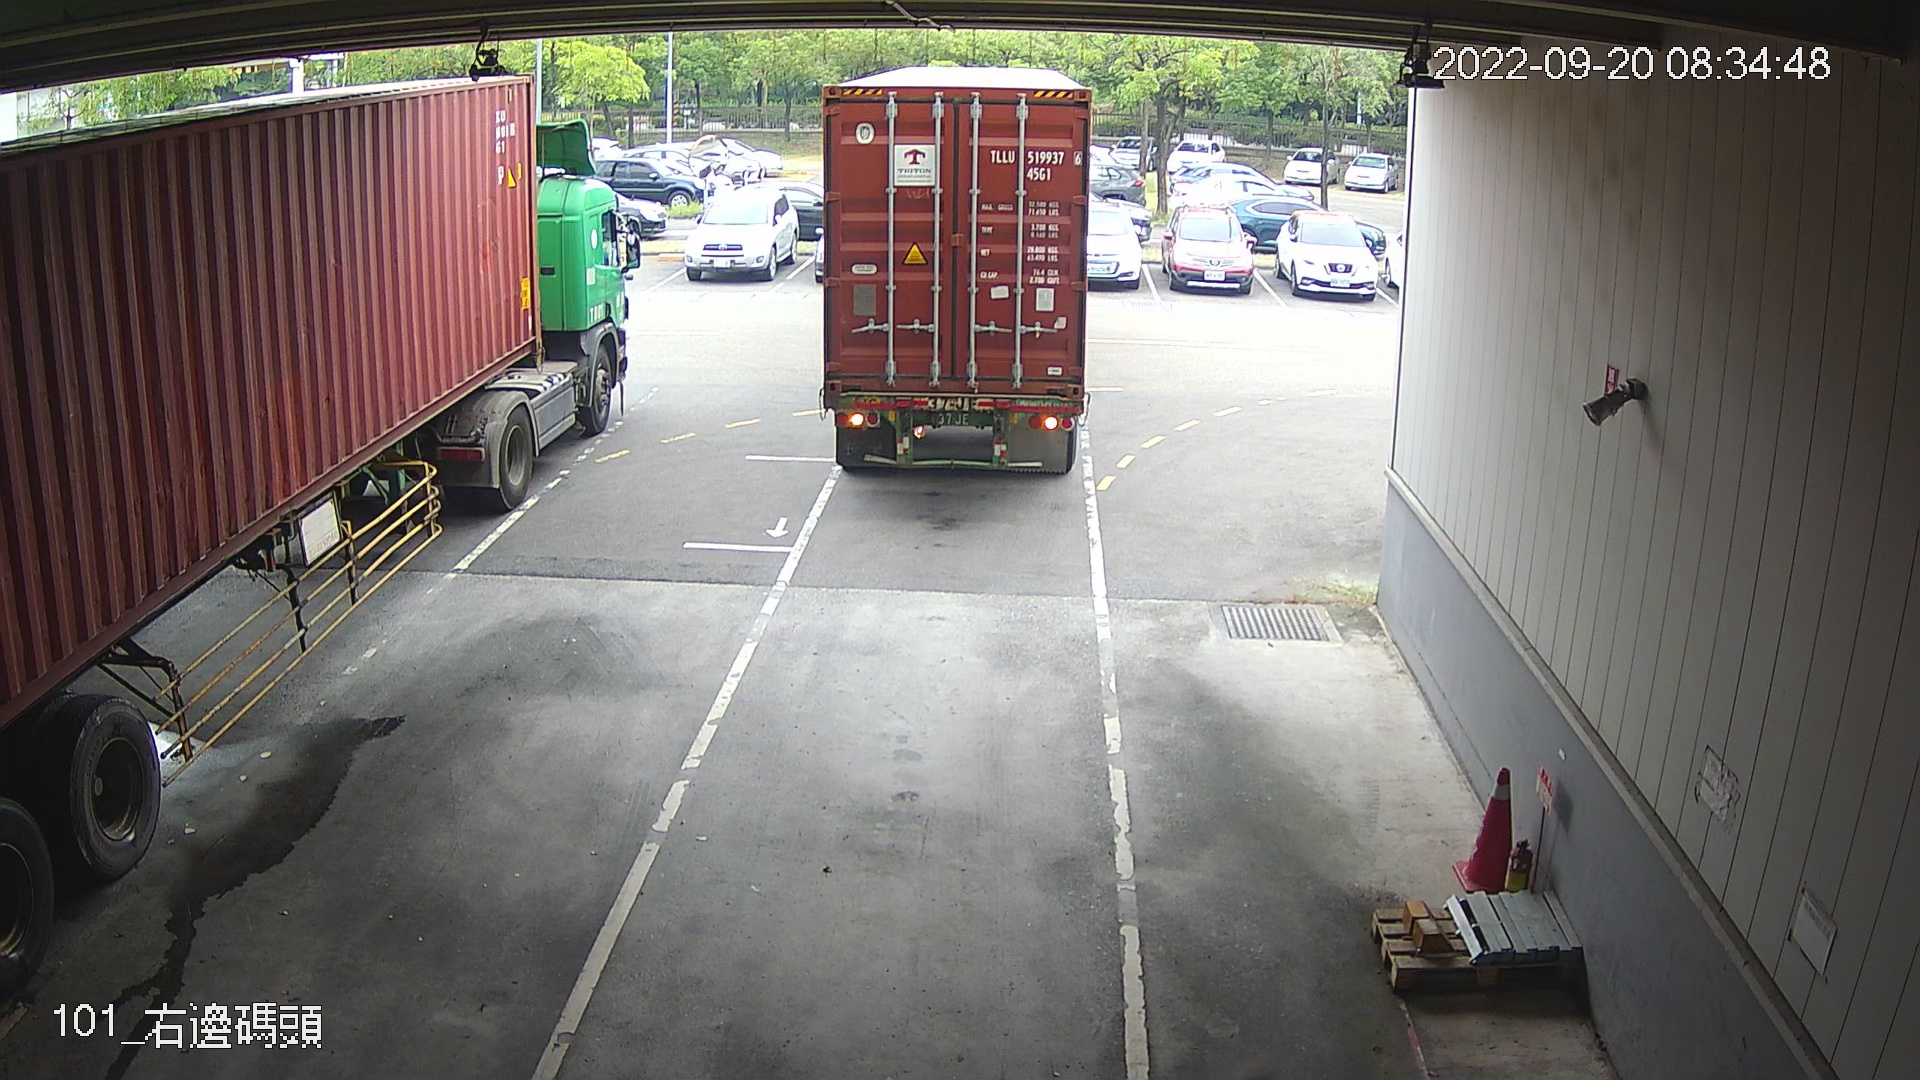container: (984, 138, 1085, 185)
